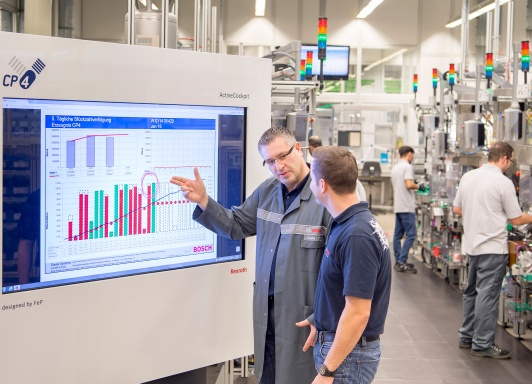person: (170, 128, 327, 384), (308, 143, 391, 384), (452, 140, 532, 362), (391, 145, 432, 276)
